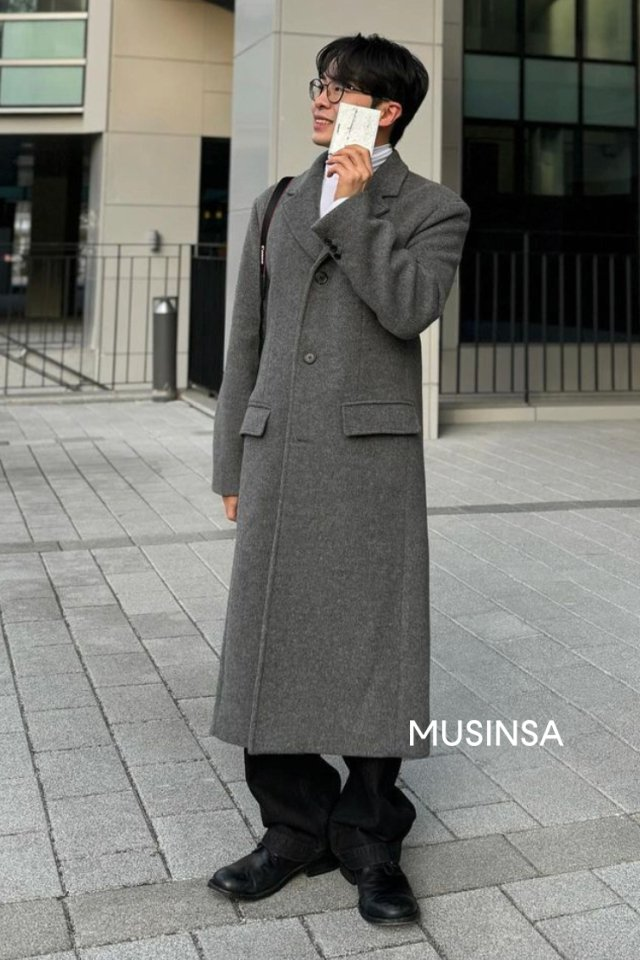Coat: (202, 151, 468, 765)
Glasses: (298, 71, 405, 110)
Pants: (244, 745, 420, 870)
Shoes: (199, 835, 423, 928)
